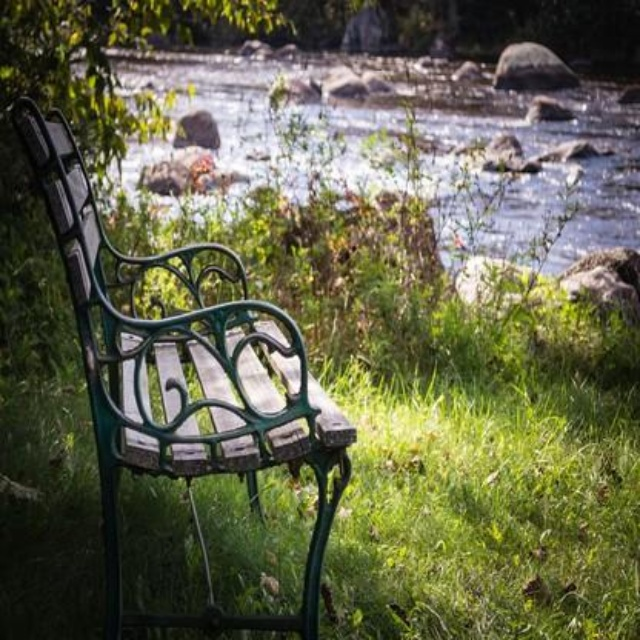obstacle: (5, 91, 358, 629)
